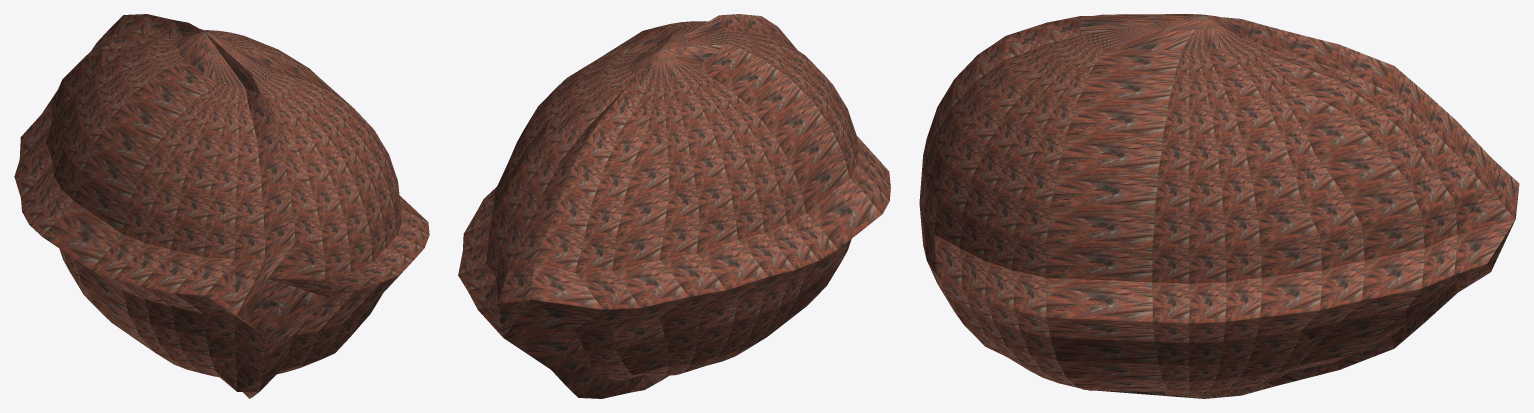
The model's file is loveinamistseed.dae.
The picture shows the model from 3 angles, left to right: view 1: azimuth 30°, elevation 25°; view 2: azimuth 150°, elevation 25°; view 3: azimuth 270°, elevation 25°; orthographic projection. The views are drawn at different scales.
Visible parts, largest first — view 1: Sphere; view 2: Sphere; view 3: Sphere.
Boxes of the visible parts, bbox=[...] form: Sphere: bbox=[14, 14, 429, 398]; Sphere: bbox=[458, 14, 890, 398]; Sphere: bbox=[919, 14, 1519, 398].
Bounding box in the file's own units: 2.41 × 3.16 × 2.23.
Materials: 1 (1 with a texture image).
